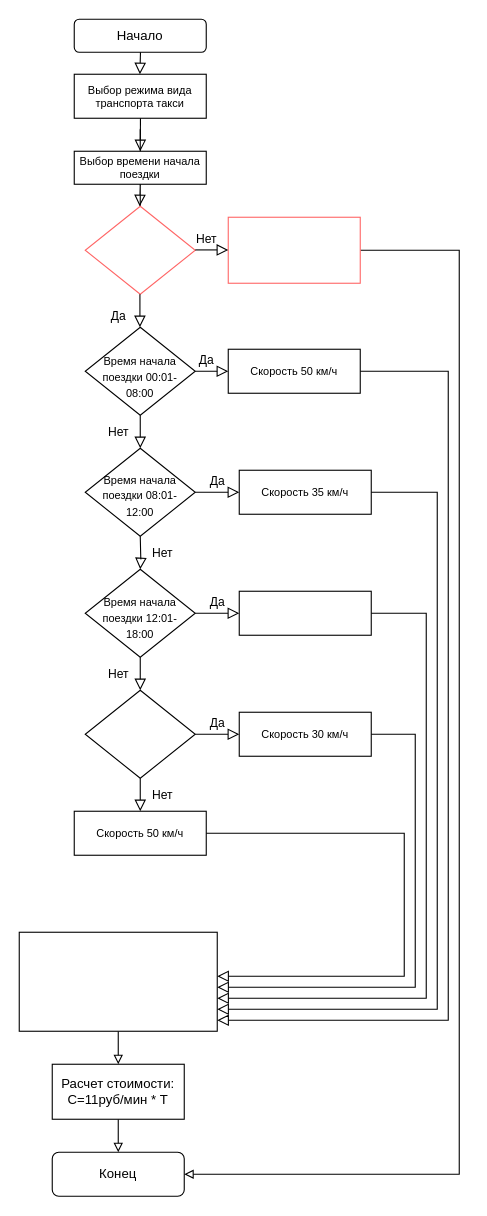
This 487x1216 diagram has some shape labels left out. Here are the shapes that lost their labels. From the top down, the box of each, then its label:
(84, 205, 195, 294): Введены корректные данные
(227, 216, 360, 283): Подсвечивается красным ошибка: "Вы ввели некорректное время"
(238, 590, 371, 635): Скорость 42 км/ч
(84, 689, 195, 778): Время начала поездки 18:01-22:00
(18, 931, 217, 1031): Расчет времени по формуле: T=(S/Vср)*60
